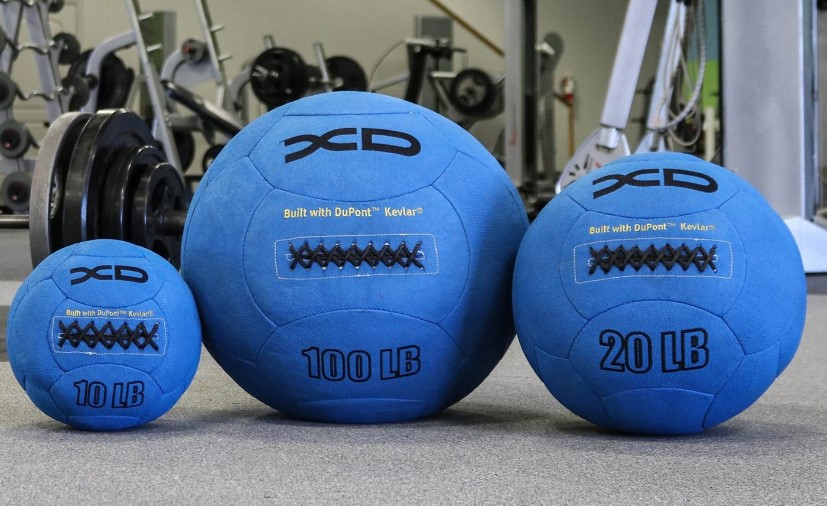blue ball: (180, 92, 531, 427), (510, 151, 809, 434), (5, 236, 204, 431)
